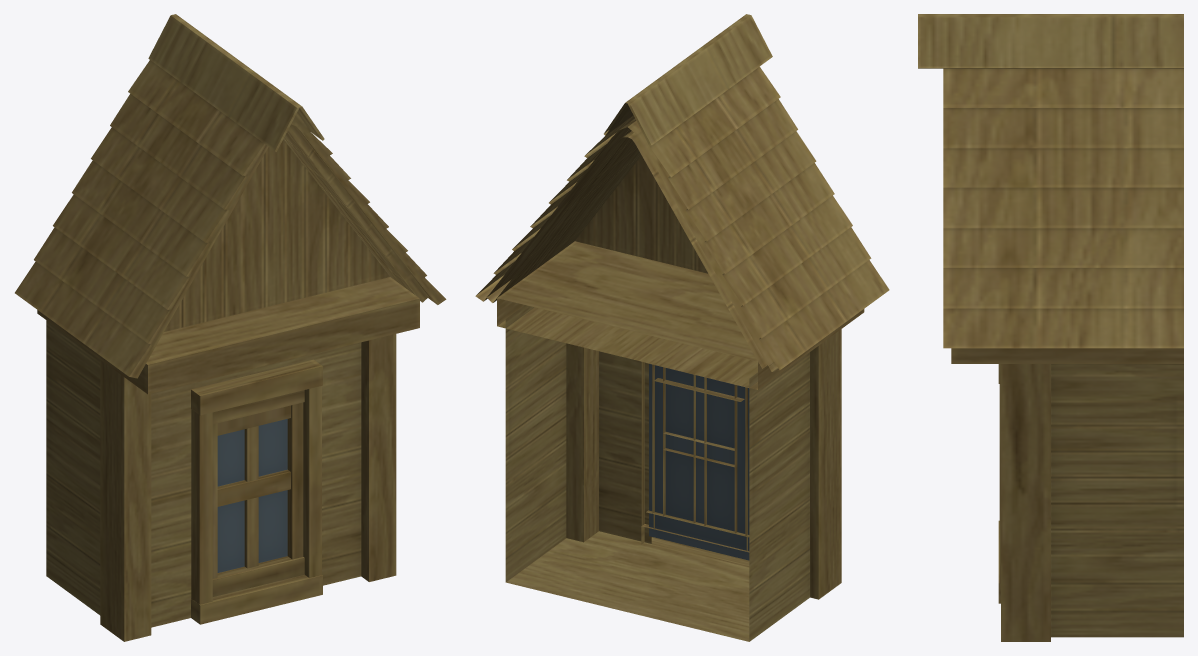
Rendered from sb_obj_outdoor028_house03_baywindow.fbx.
The picture shows the model from 3 angles, left to right: view 1: azimuth 30°, elevation 25°; view 2: azimuth 150°, elevation 25°; view 3: azimuth 270°, elevation 25°; orthographic projection. The views are drawn at different scales.
Parts seen in each view (by area): view 1: sb_obj_outdoor028_house03_a.001; view 2: sb_obj_outdoor028_house03_a.001; view 3: sb_obj_outdoor028_house03_a.001.
Boxes of the visible parts, x1=… form: sb_obj_outdoor028_house03_a.001: x1=15, y1=14, x2=446, y2=641; sb_obj_outdoor028_house03_a.001: x1=475, y1=14, x2=889, y2=641; sb_obj_outdoor028_house03_a.001: x1=918, y1=14, x2=1183, y2=641.
Size of the model in its own units: 0.8729 by 1.39 by 0.6026.
